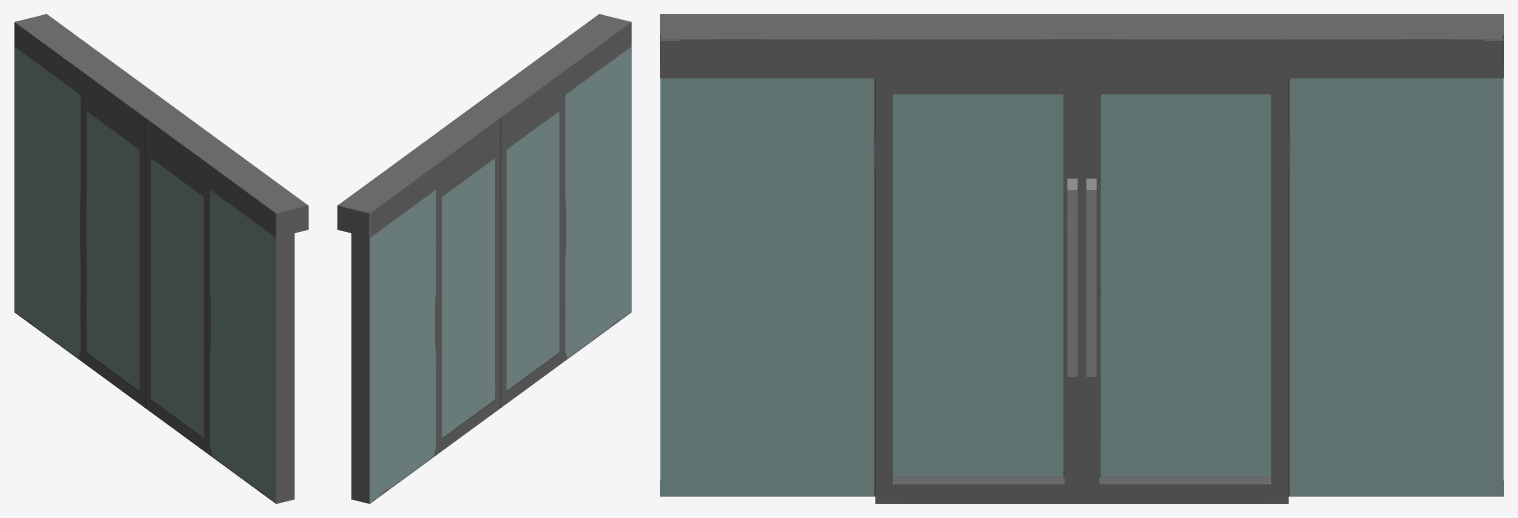
Rendered from door_2.fbx.
3 views of the same model, side by side, from view 1: azimuth 30°, elevation 25°; view 2: azimuth 150°, elevation 25°; view 3: azimuth 270°, elevation 25° (orthographic). The views are drawn at different scales.
Parts seen in each view (by area): view 1: Cube; view 2: Cube; view 3: Cube, 立方体.
Part boxes in pixels (x1=…): Cube: x1=14, y1=14, x2=308, y2=503; Cube: x1=337, y1=14, x2=631, y2=503; Cube: x1=660, y1=14, x2=1503, y2=503; 立方体: x1=1067, y1=178, x2=1096, y2=376.
Bounding box in the file's own units: 91.34 × 600 × 980.
